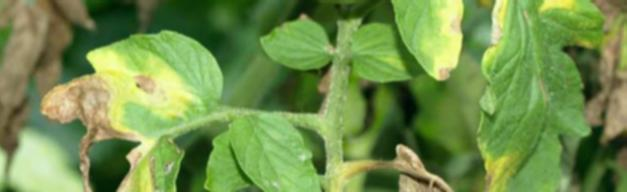Tomato Early blight leaf: (483, 0, 614, 192), (38, 15, 226, 141), (386, 0, 476, 92)
Tomato leaf: (220, 116, 333, 192)
